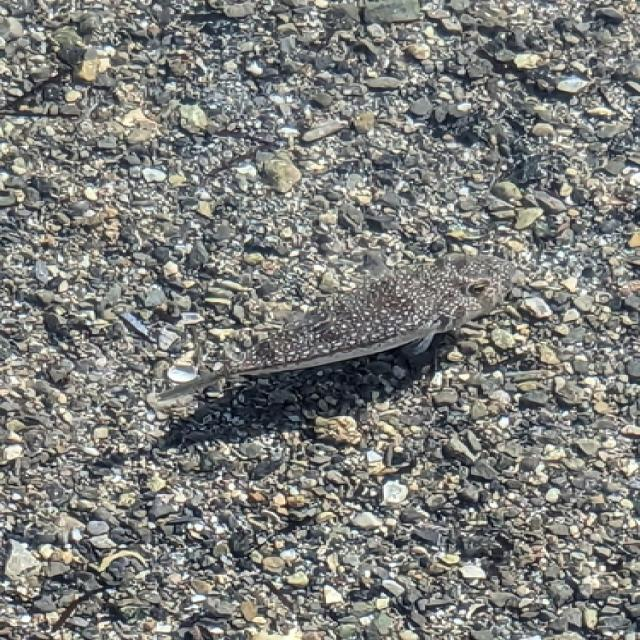Balik: (159, 254, 515, 401)
